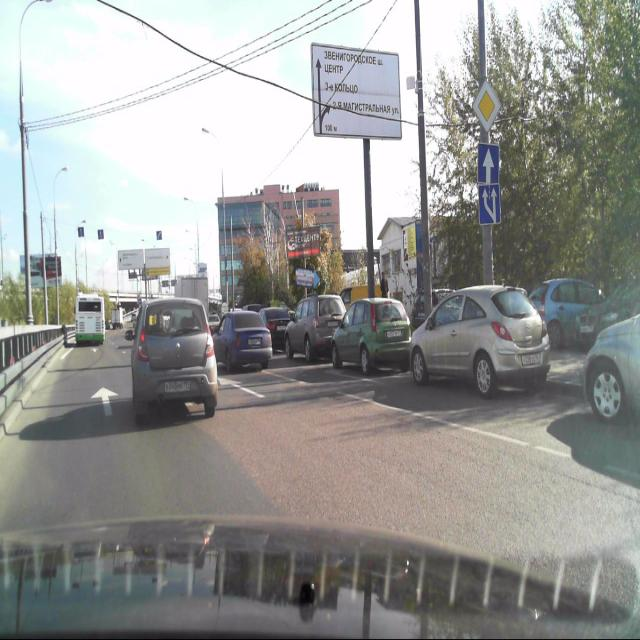road sign: (470, 78, 501, 132), (477, 181, 502, 226), (476, 140, 500, 183)
